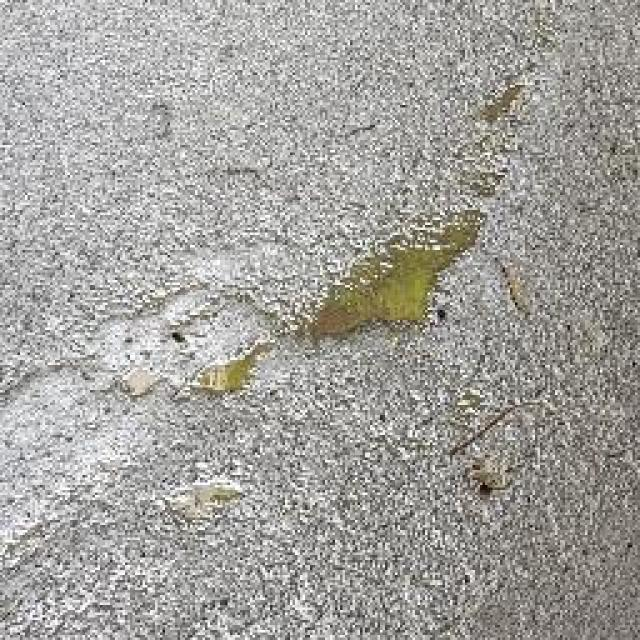waterlogging: (175, 60, 536, 411)
